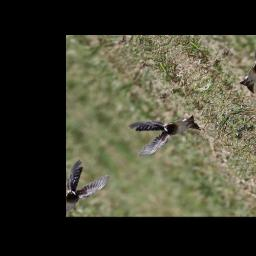Swallow: (118, 94, 204, 167)
